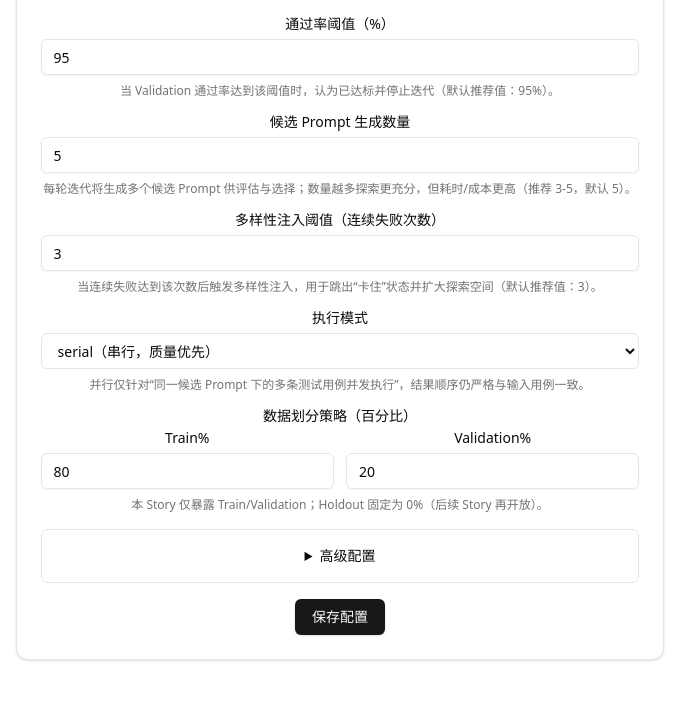
OptimizationTaskConfigView › 保存失败时仅展示 message（不展示 details）
This screenshot has width=681, height=714.
(page scrolled)
Click the button "保存配置".
click(340, 617)  # box [295,599,385,635]
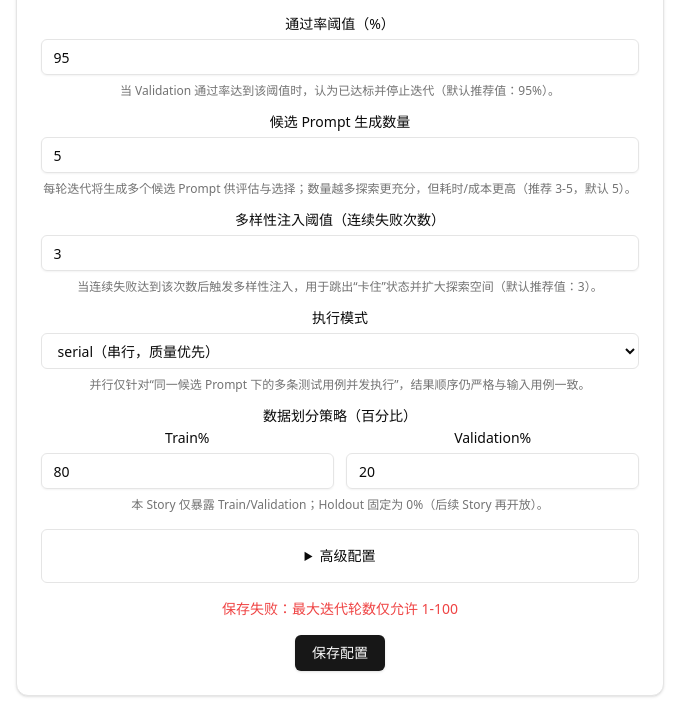
expect the text "保存失败：最大迭代轮数仅允许 1-100" is shown: met, box [222,599,458,618]
